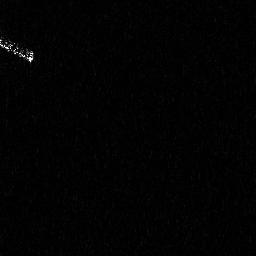ship: (1, 36, 35, 64)
